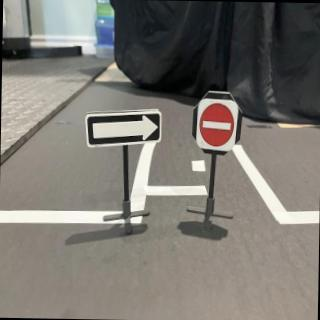sign_noentry: (196, 97, 240, 157)
sign_oneway_right: (84, 108, 164, 151)
